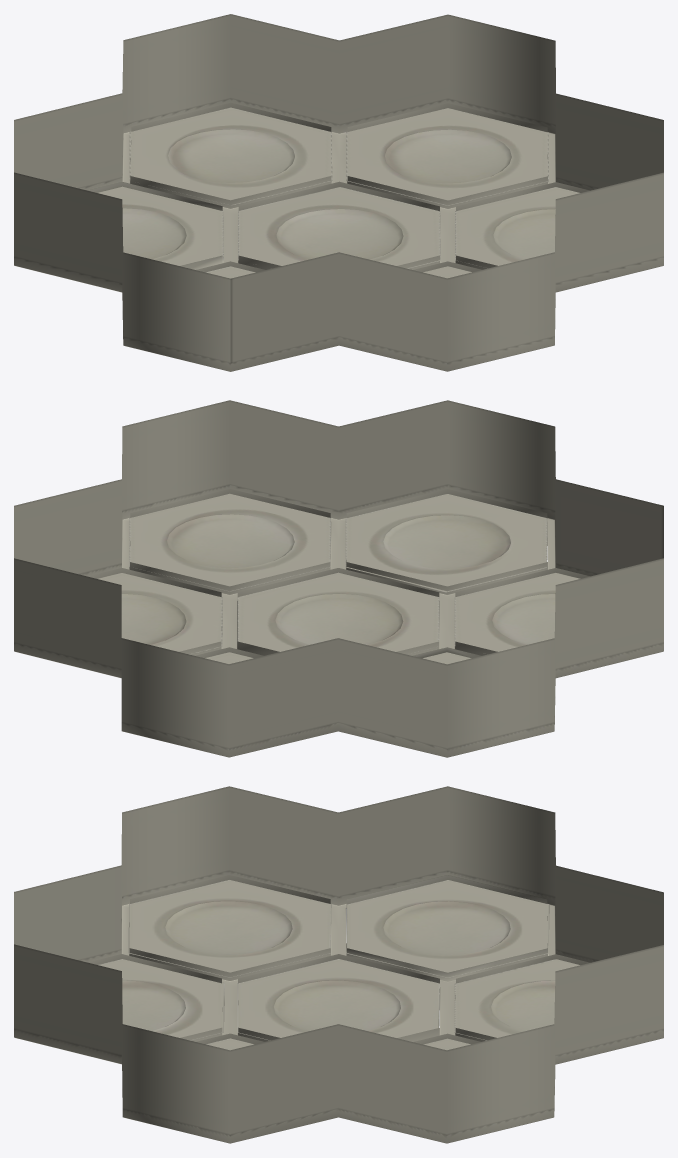
The model's file is celing_lights_Clock.fbx.
3 renders of one model, top to bottom at view 1: azimuth 30°, elevation 25°; view 2: azimuth 150°, elevation 25°; view 3: azimuth 270°, elevation 25°, orthographic.
Parts seen in each view (by area): view 1: celing_lights_Parts, celing_lights_A; view 2: celing_lights_Parts, celing_lights_A; view 3: celing_lights_Parts, celing_lights_A.
Part boxes in pixels (bbox=[...]): celing_lights_Parts: bbox=[14, 14, 663, 371]; celing_lights_A: bbox=[122, 129, 555, 259]; celing_lights_Parts: bbox=[14, 400, 663, 757]; celing_lights_A: bbox=[121, 514, 555, 644]; celing_lights_Parts: bbox=[14, 786, 663, 1143]; celing_lights_A: bbox=[122, 901, 555, 1030].
Size of the model in its own units: 54.78 by 9.07 by 57.
1 material, 1 textured.
